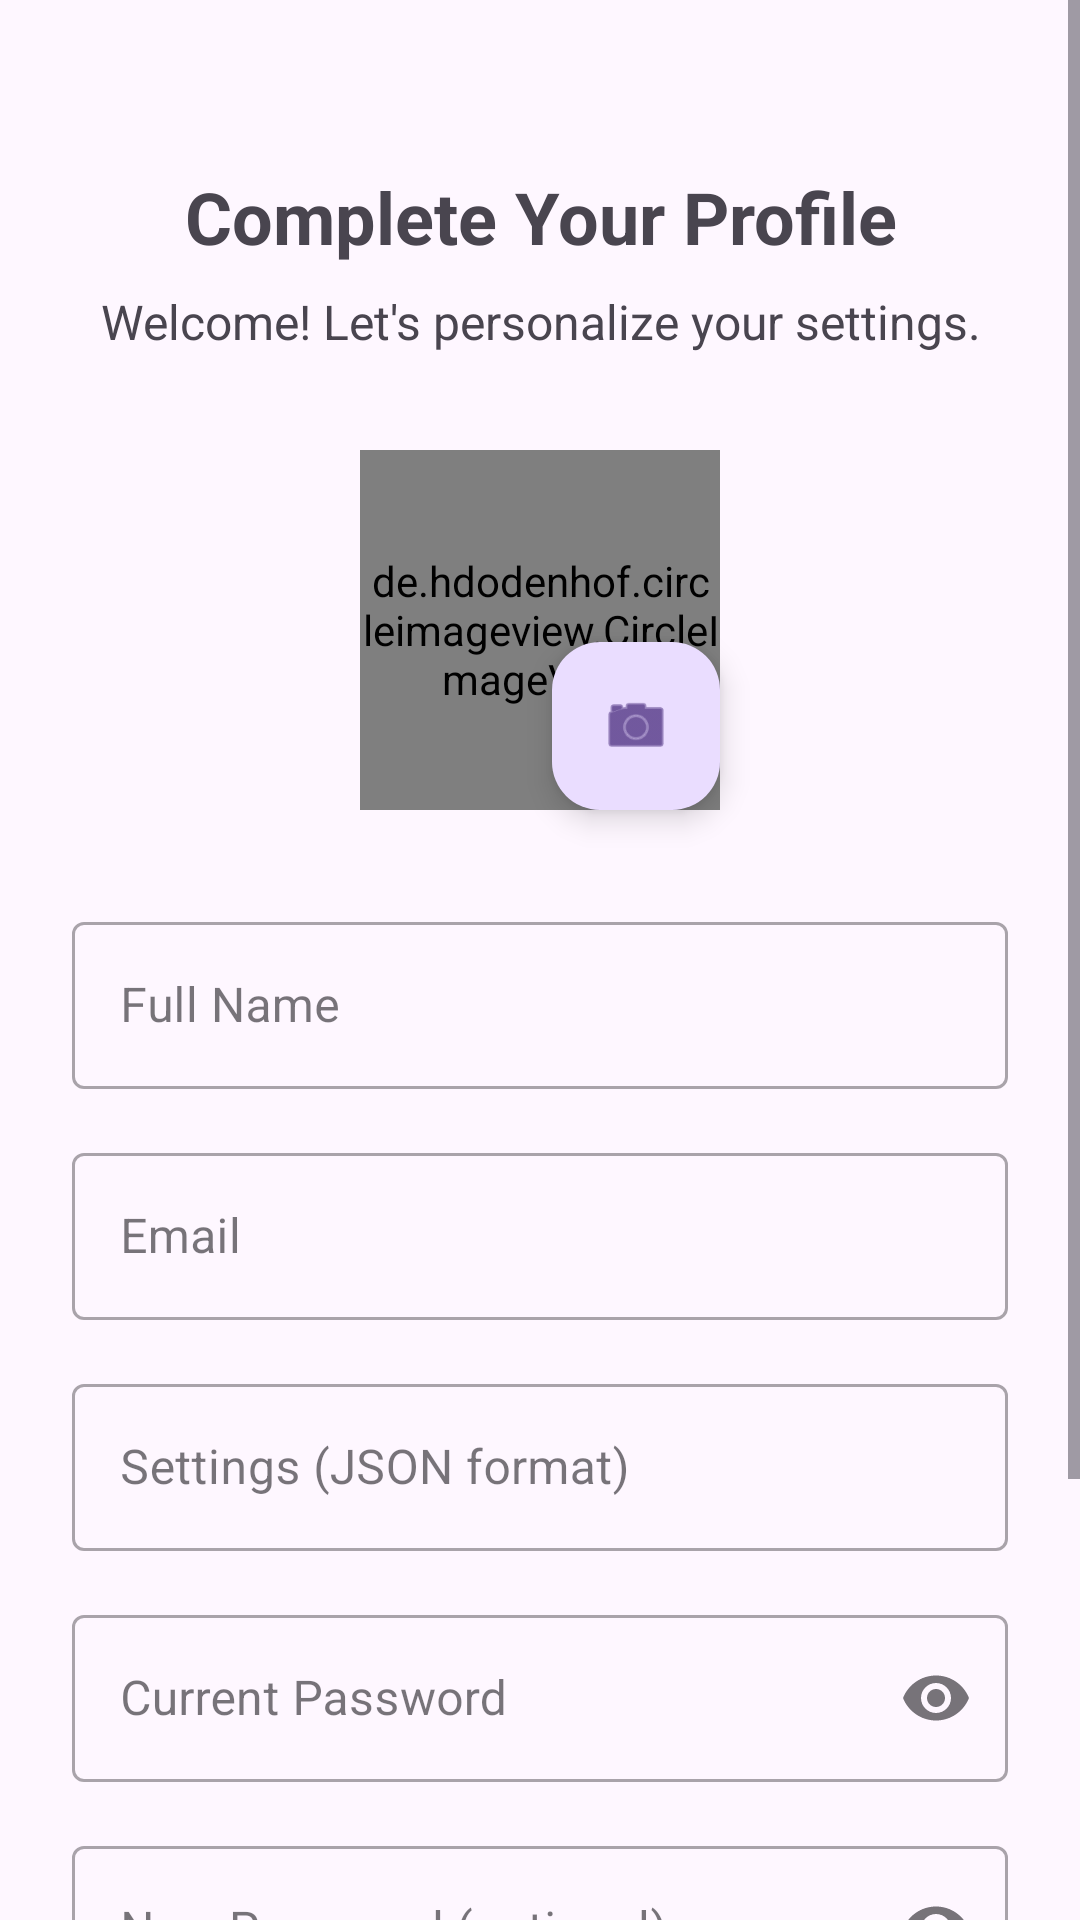

Where to tap for icons on this 1080px x 1920px app screen, as [x,y]:
Edit Profile Picture: [636,726]
